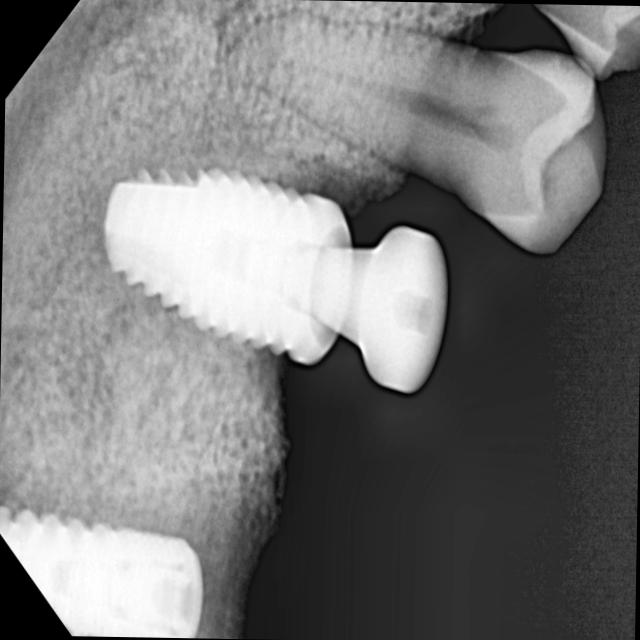Normal: (185, 0, 620, 270)
Post: (77, 152, 276, 404)
